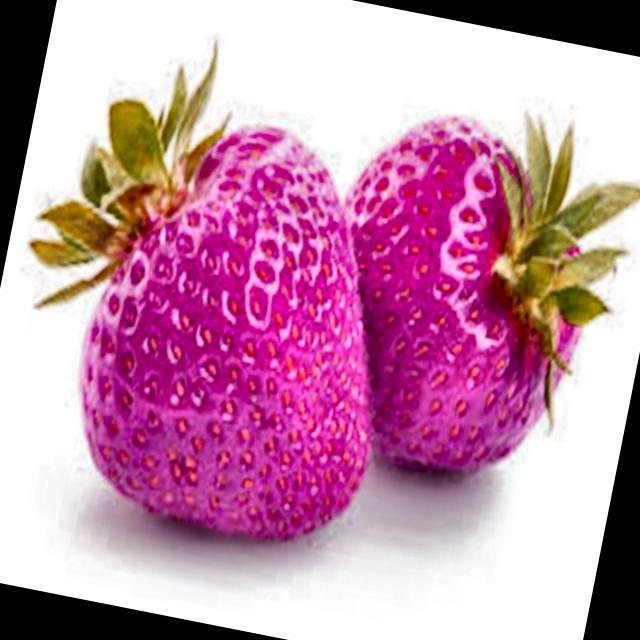strawberry: (32, 46, 371, 538), (348, 116, 640, 471)
